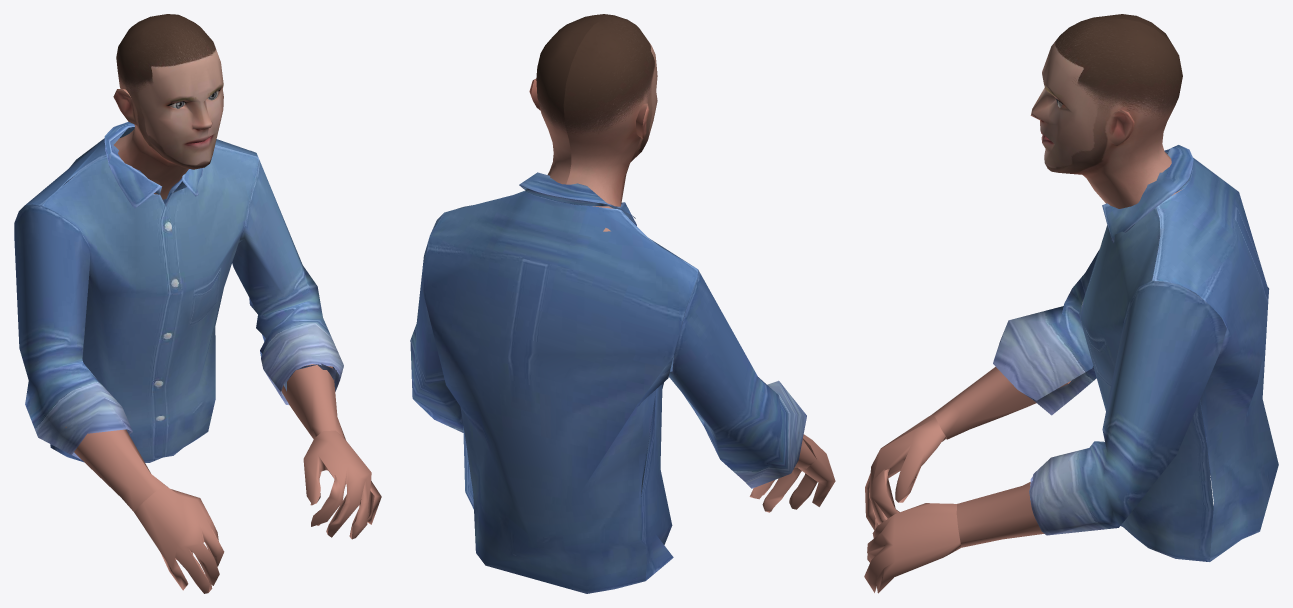
The model's file is Patient.fbx.
3 views of the same model, side by side, from view 1: azimuth 30°, elevation 25°; view 2: azimuth 150°, elevation 25°; view 3: azimuth 270°, elevation 25° (orthographic). The views are drawn at different scales.
Visible parts, largest first — view 1: Man; view 2: Man; view 3: Man.
Part boxes in pixels (bbox=[...]): Man: bbox=[14, 14, 381, 593]; Man: bbox=[410, 14, 835, 593]; Man: bbox=[864, 14, 1278, 593].
Size of the model in its own units: 55.92 by 84.45 by 57.47.
4 materials, 4 textured.
